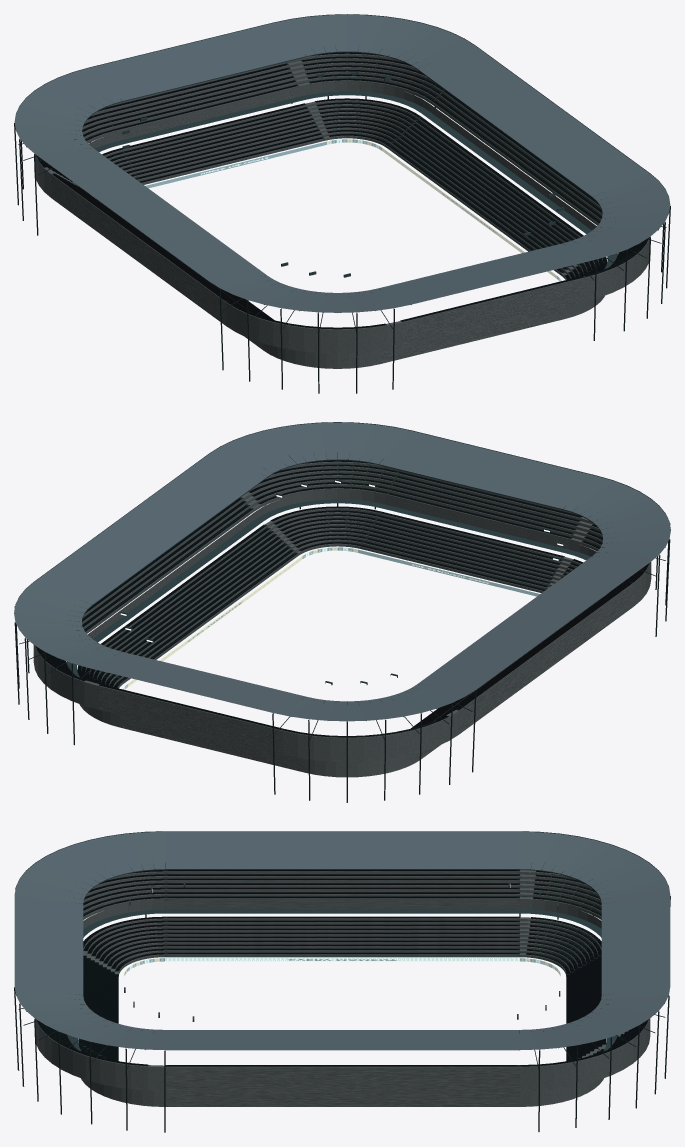
Rendered from stadium-shell.glb.
3 views of the same model, one above another, from view 1: azimuth 30°, elevation 25°; view 2: azimuth 150°, elevation 25°; view 3: azimuth 270°, elevation 25° (orthographic).
Parts seen in each view (by area): view 1: canopy, bowl_concrete, seat_rows, balustrades, roof_trusses, advertising; view 2: canopy, bowl_concrete, seat_rows, balustrades, roof_trusses, advertising; view 3: bowl_concrete, canopy, seat_rows, balustrades, roof_trusses, advertising.
Part boxes in pixels (x1=…): canopy: x1=14, y1=14, x2=670, y2=312; bowl_concrete: x1=34, y1=53, x2=650, y2=368; seat_rows: x1=36, y1=52, x2=649, y2=329; balustrades: x1=15, y1=14, x2=669, y2=277; roof_trusses: x1=14, y1=46, x2=670, y2=393; advertising: x1=145, y1=139, x2=561, y2=281; canopy: x1=14, y1=422, x2=670, y2=721; bowl_concrete: x1=33, y1=461, x2=651, y2=777; seat_rows: x1=35, y1=460, x2=649, y2=737; balustrades: x1=14, y1=422, x2=670, y2=687; roof_trusses: x1=14, y1=452, x2=670, y2=802; advertising: x1=123, y1=547, x2=539, y2=689; bowl_concrete: x1=34, y1=870, x2=650, y2=1106; canopy: x1=14, y1=831, x2=670, y2=1050; seat_rows: x1=36, y1=870, x2=648, y2=1066; balustrades: x1=15, y1=831, x2=669, y2=1051; roof_trusses: x1=14, y1=862, x2=670, y2=1132; advertising: x1=124, y1=958, x2=560, y2=976.
Bounding box in the file's own units: 134 × 24.16 × 170.
7 materials, 4 textured.
